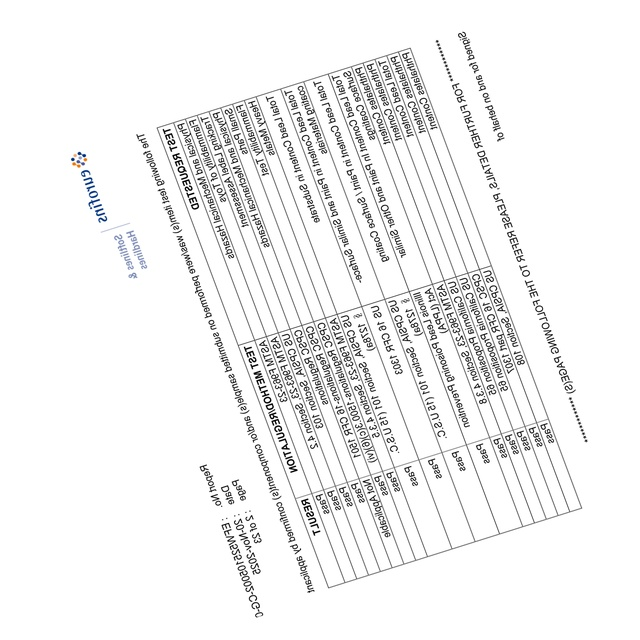eurofins: (63, 146, 109, 231)
